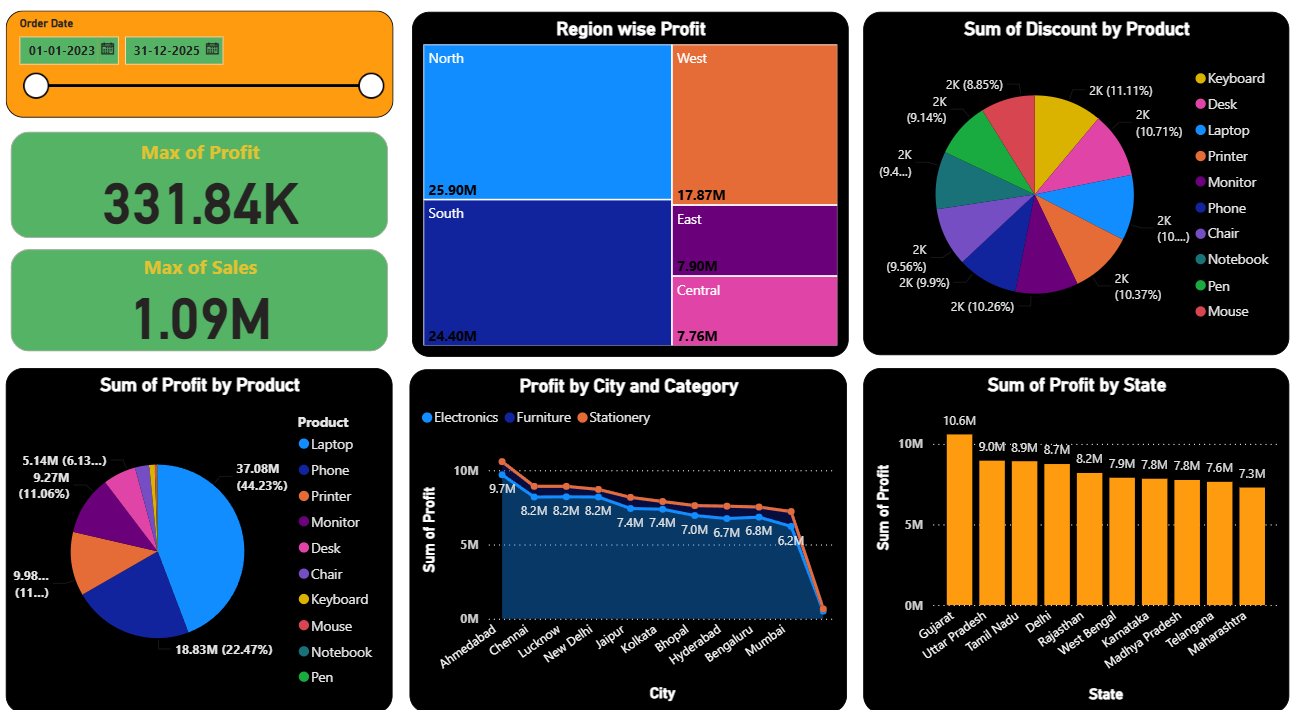

Layout of this report page (visuals, bound fields, positions):
{"tool":"powerbi","page":{"name":"Profit","canvas":[1280,720],"ordinal":1},"visuals":[{"type":"slicer","fields":{"Values":["Sales_Data.OrderDate"]},"box":[13.5,22,379.1,105.2],"z":0},{"type":"columnChart","fields":{"Category":["Sales_Data.State"],"Y":["Sum(Sales_Data.Profit)"]},"box":[852.3,371.7,417,337.5],"z":1000},{"type":"stackedAreaChart","title":"Profit by City and Category","fields":{"Y":["Sum(Sales_Data.Profit)"],"Category":["Sales_Data.City"],"Series":["Sales_Data.Category"]},"box":[408.9,373.2,428.1,336.2],"z":2000},{"type":"pieChart","fields":{"Y":["Sum(Sales_Data.Profit)"],"Category":["Sales_Data.Product"]},"box":[13.7,371.9,378.7,337.6],"z":3000},{"type":"pieChart","fields":{"Y":["Sum(Sales_Data.Discount)"],"Category":["Sales_Data.Product"]},"box":[852.3,23.2,417,336.3],"z":4000},{"type":"cardVisual","fields":{"Data":["Max(Sales_Data.Profit)"]},"box":[13.5,135.7,379.1,114.9],"z":5000},{"type":"cardVisual","fields":{"Data":["Max(Sales_Data.Sales)"]},"box":[13.5,250.7,379.1,110.1],"z":6000},{"type":"treemap","title":"Region wise Profit","fields":{"Group":["Sales_Data.Region"],"Values":["Sum(Sales_Data.Profit)"]},"box":[410.4,23.4,427.3,337.7],"z":7000}]}

Visuals, with their boxes in screenshot pixels (x1, y1, x2, y2), scaled from the page's 1280x720 canvas onto the 1300x710 screenshot:
slicer - Sales_Data.OrderDate: [14, 22, 399, 125]
columnChart - Sales_Data.State x Sum(Sales_Data.Profit): [866, 367, 1289, 699]
"Profit by City and Category" stackedAreaChart: [415, 368, 850, 700]
pieChart - Sum(Sales_Data.Profit) x Sales_Data.Product: [14, 367, 399, 700]
pieChart - Sum(Sales_Data.Discount) x Sales_Data.Product: [866, 23, 1289, 355]
cardVisual - Max(Sales_Data.Profit): [14, 134, 399, 247]
cardVisual - Max(Sales_Data.Sales): [14, 247, 399, 356]
"Region wise Profit" treemap: [417, 23, 851, 356]
